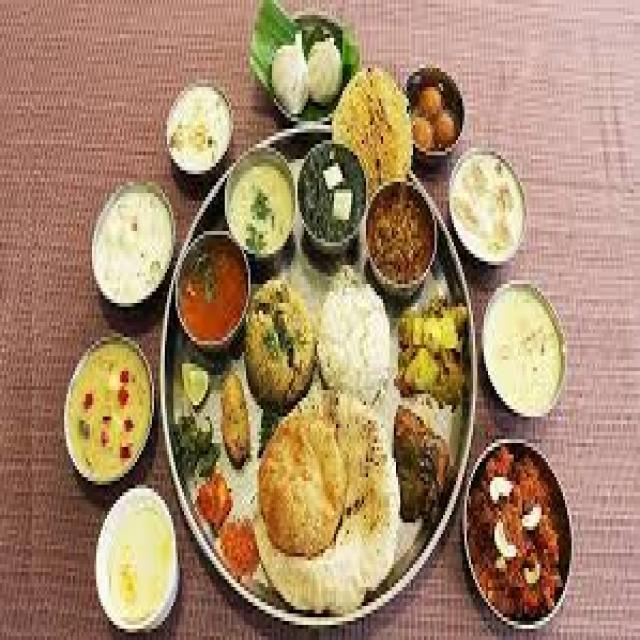dal: (480, 292, 570, 422)
papad: (263, 294, 408, 593)
roti: (255, 353, 401, 582)
sambar-rasam: (363, 169, 445, 288), (173, 239, 256, 345)
sweet: (466, 456, 568, 612)
veg-fry: (394, 288, 474, 459)
